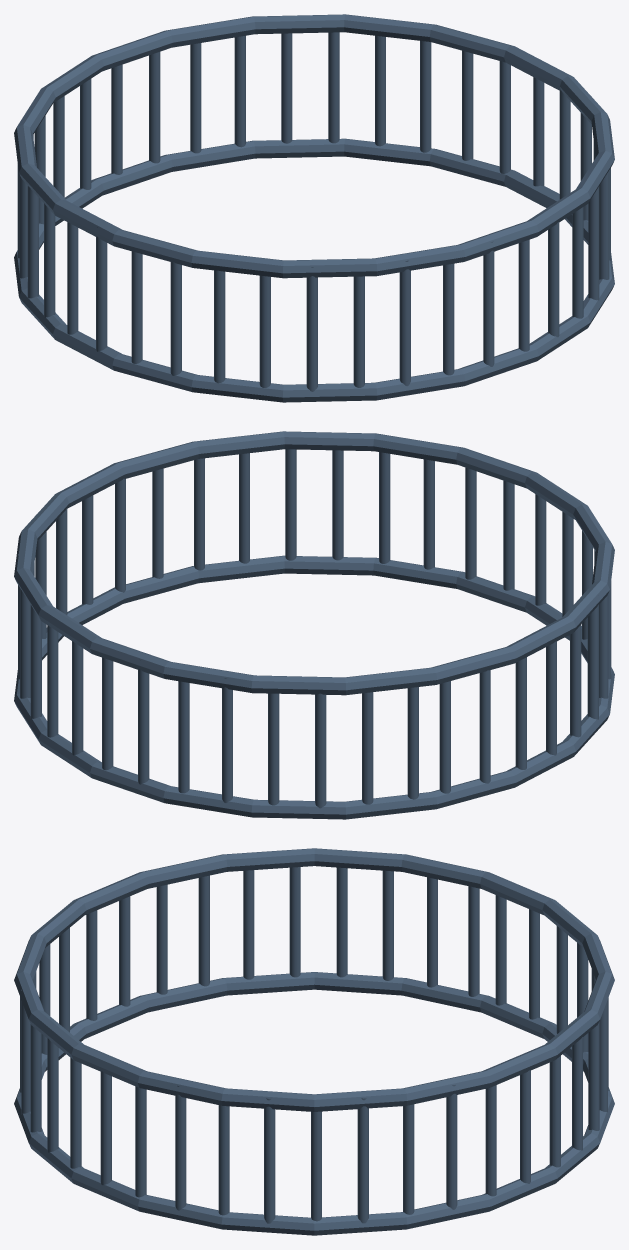
File: Cage.fbx
The picture shows the model from 3 angles, top to bottom: view 1: azimuth 30°, elevation 25°; view 2: azimuth 150°, elevation 25°; view 3: azimuth 270°, elevation 25°; orthographic projection.
Parts seen in each view (by area): view 1: Cylinder, Torus.001, Torus; view 2: Cylinder, Torus.001, Torus; view 3: Cylinder, Torus.001, Torus.
Boxes of the visible parts, box(x1,y1,x2,y2) form: Cylinder: box(17, 32, 610, 391); Torus.001: box(14, 14, 614, 278); Torus: box(14, 138, 614, 402); Cylinder: box(18, 449, 611, 808); Torus.001: box(14, 431, 614, 695); Torus: box(14, 555, 614, 819); Cylinder: box(20, 867, 608, 1223); Torus.001: box(14, 848, 614, 1111); Torus: box(14, 972, 614, 1235).
Size of the model in its own units: 636 by 164 by 636.
